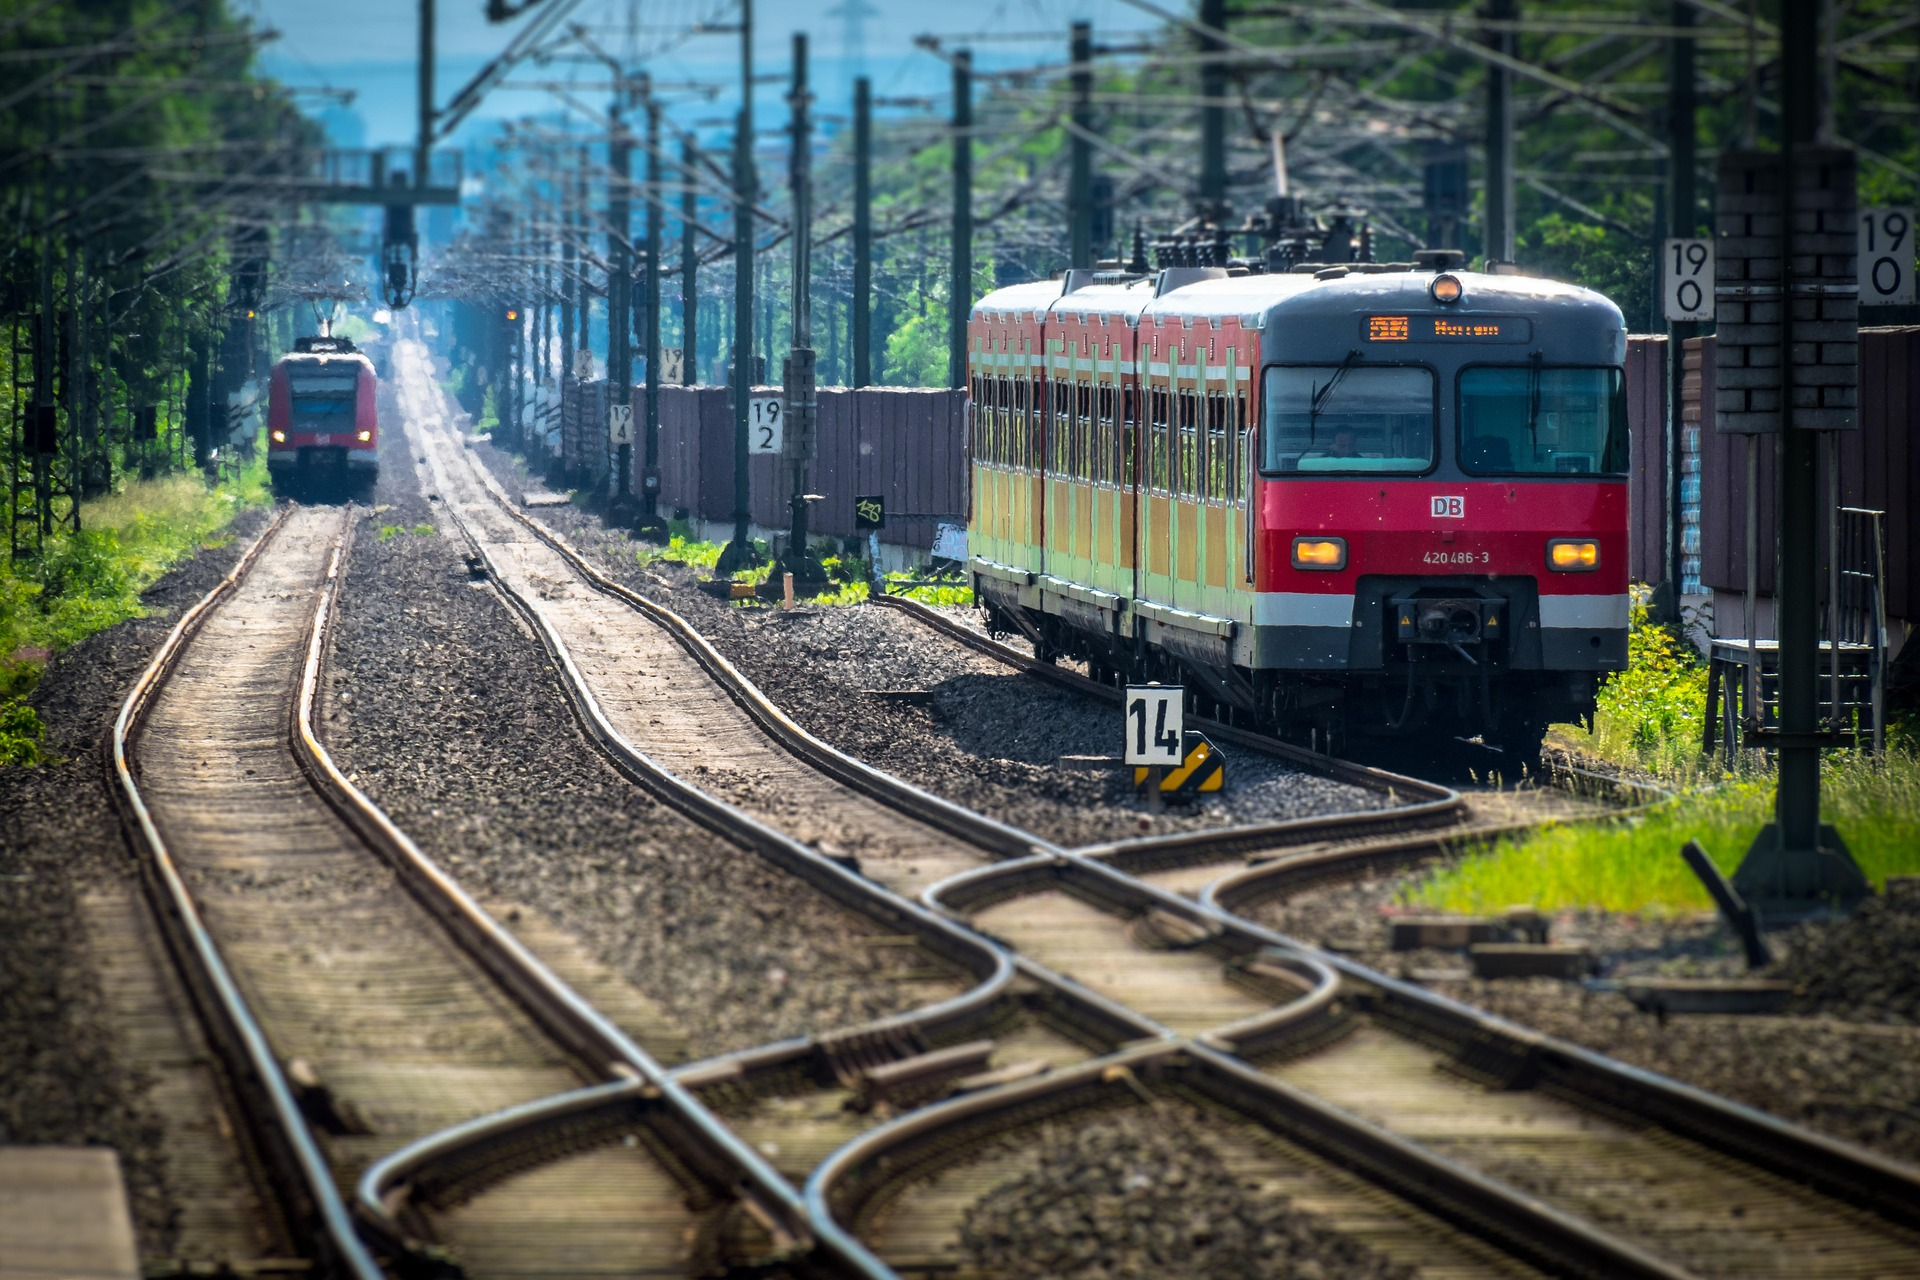train1: (263, 351, 381, 491)
train2: (966, 257, 1643, 754)
